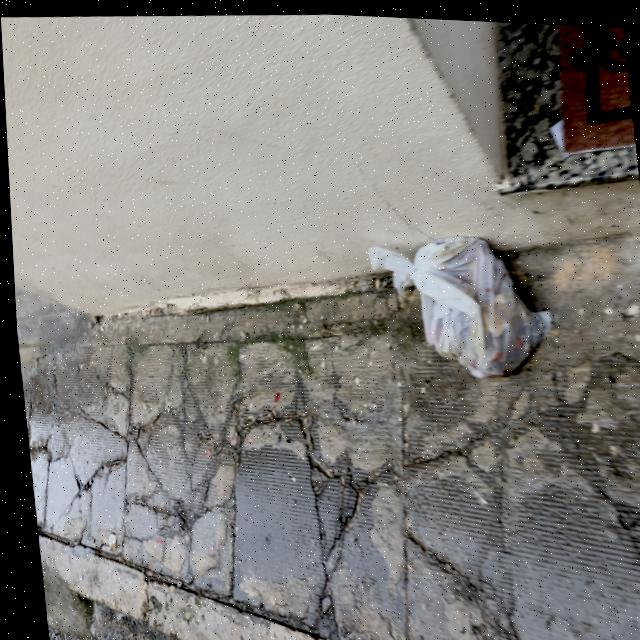Organic Waste -White Bag-: (359, 212, 558, 396)
